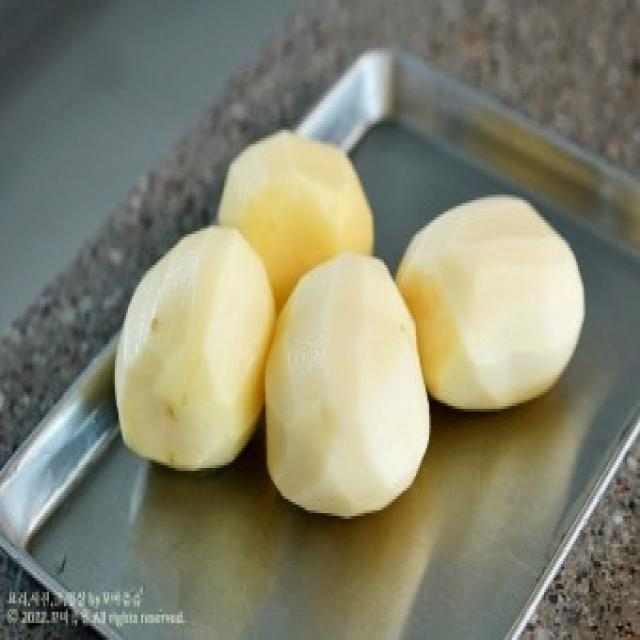potato: (266, 252, 431, 522), (394, 192, 590, 412), (114, 225, 270, 472), (218, 124, 376, 312)
